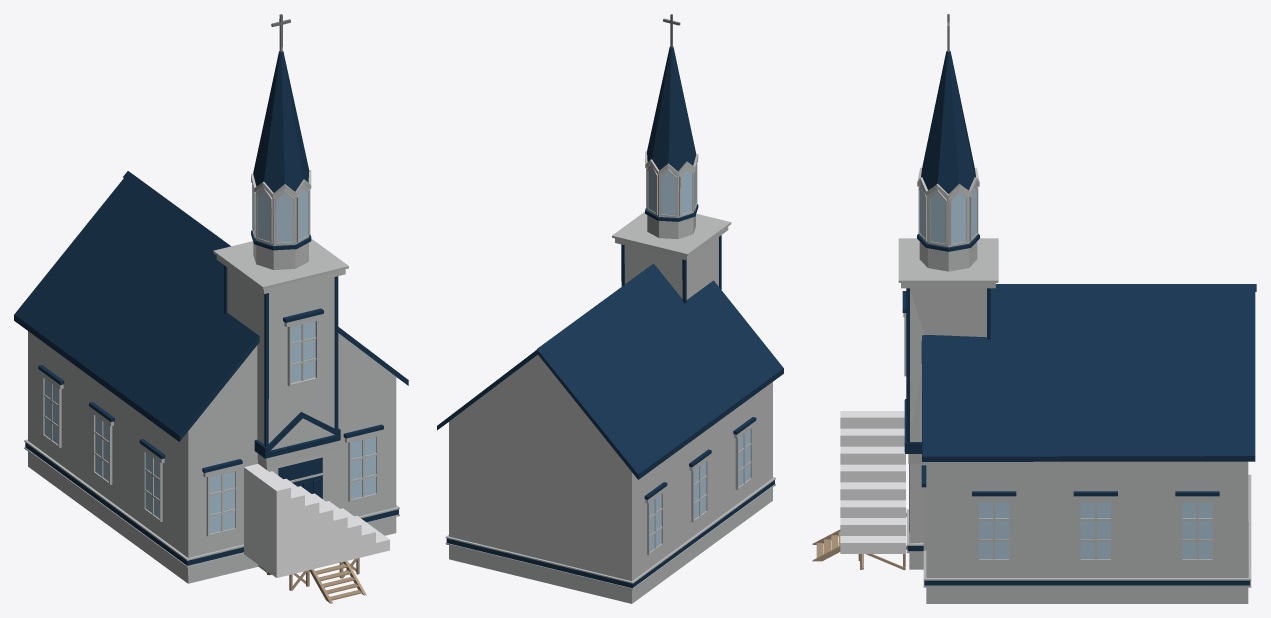
The model's file is london_bld_chapel.glb.
3 views of the same model, side by side, from view 1: azimuth 30°, elevation 25°; view 2: azimuth 150°, elevation 25°; view 3: azimuth 270°, elevation 25° (orthographic). The views are drawn at different scales.
Visible parts, largest first — view 1: Church, Stairs_Stone_01; view 2: Church; view 3: Church, Stairs_Stone_01.
Boxes of the visible parts, bbox=[...] form: Church: bbox=[14, 14, 408, 603]; Stairs_Stone_01: bbox=[244, 464, 389, 577]; Church: bbox=[437, 14, 783, 603]; Church: bbox=[812, 14, 1256, 603]; Stairs_Stone_01: bbox=[840, 411, 905, 553].
Size of the model in its own units: 3.34 by 7.45 by 5.57.
2 materials, 1 textured.
